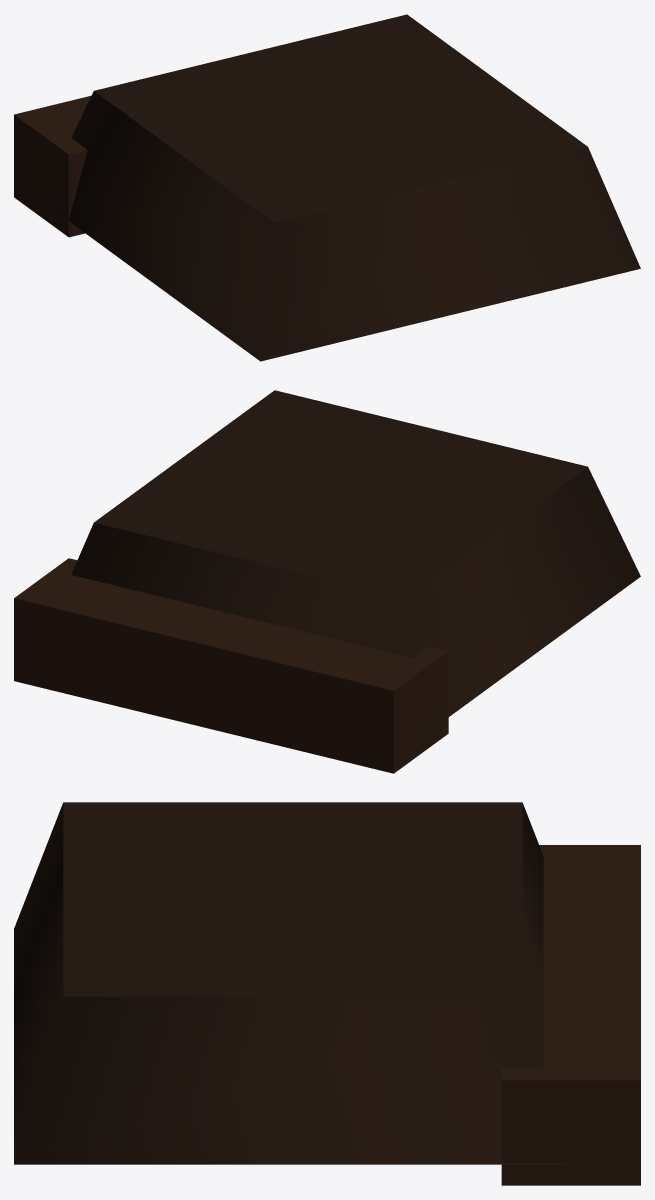
File: chocolate-piece.glb
3 views of the same model, one above another, from view 1: azimuth 30°, elevation 25°; view 2: azimuth 150°, elevation 25°; view 3: azimuth 270°, elevation 25° (orthographic). The views are drawn at different scales.
Parts seen in each view (by area): view 1: SnappedBlock, RoughFractureLip; view 2: SnappedBlock, RoughFractureLip; view 3: SnappedBlock, RoughFractureLip.
Boxes of the visible parts, bbox=[...] form: SnappedBlock: bbox=[41, 14, 640, 361]; RoughFractureLip: bbox=[14, 96, 90, 237]; SnappedBlock: bbox=[71, 390, 640, 737]; RoughFractureLip: bbox=[14, 558, 448, 773]; SnappedBlock: bbox=[14, 802, 571, 1164]; RoughFractureLip: bbox=[501, 845, 640, 1185].
Bounding box in the file's own units: 1.2 × 0.4 × 1.35.
